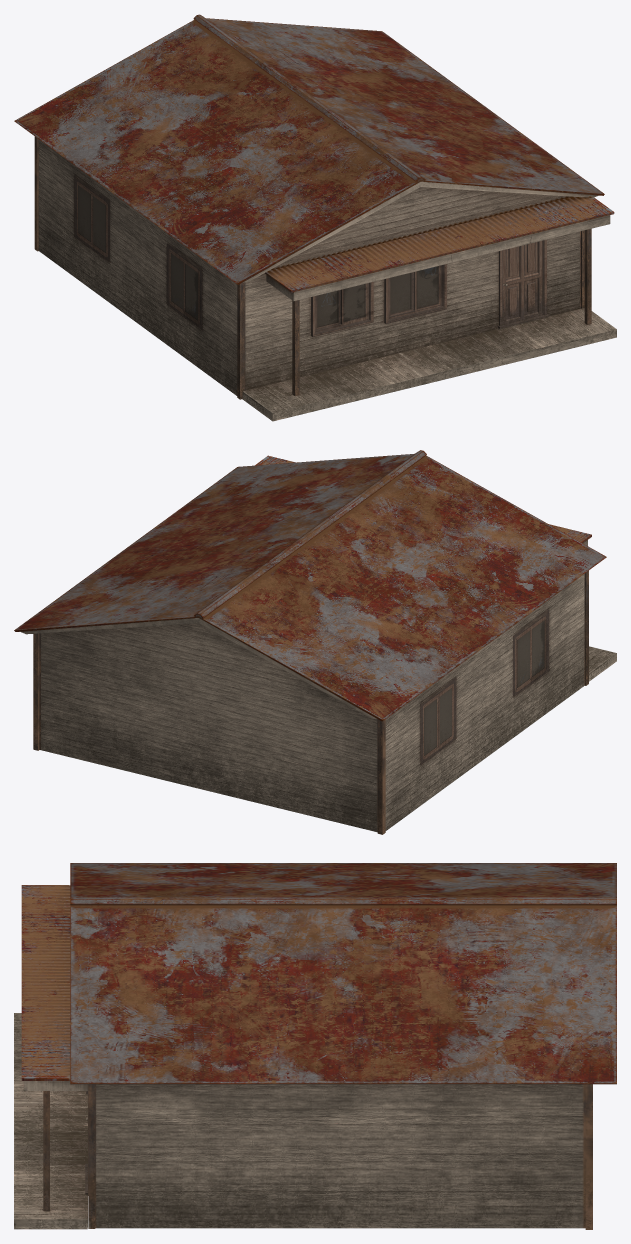
File: Hut abandoned.fbx
The picture shows the model from 3 angles, top to bottom: view 1: azimuth 30°, elevation 25°; view 2: azimuth 150°, elevation 25°; view 3: azimuth 270°, elevation 25°; orthographic projection. The views are drawn at different scales.
Parts seen in each view (by area): view 1: Hut abandoned; view 2: Hut abandoned; view 3: Hut abandoned.
Boxes of the visible parts, <box> form: Hut abandoned: <box>14,14,616,421</box>; Hut abandoned: <box>14,450,616,834</box>; Hut abandoned: <box>14,863,616,1229</box>.
Bounding box in the file's own units: 975 × 469 × 1127.
